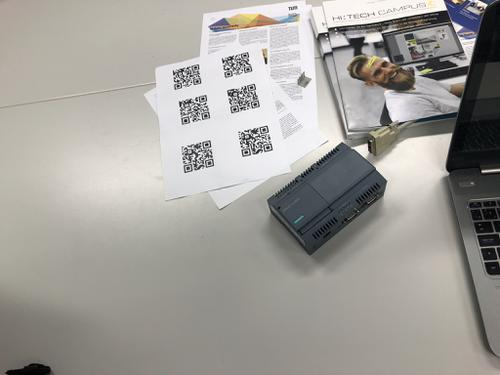device: (267, 142, 388, 257)
